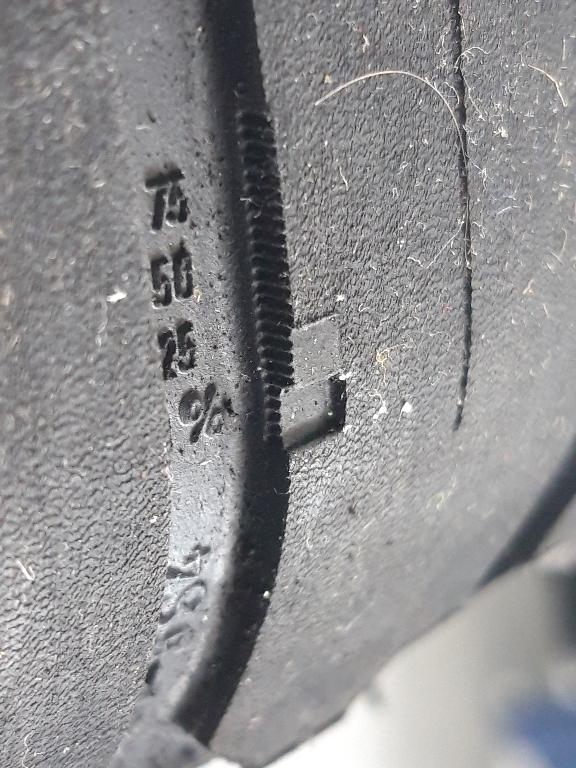temoin:25: (241, 292, 367, 480)
